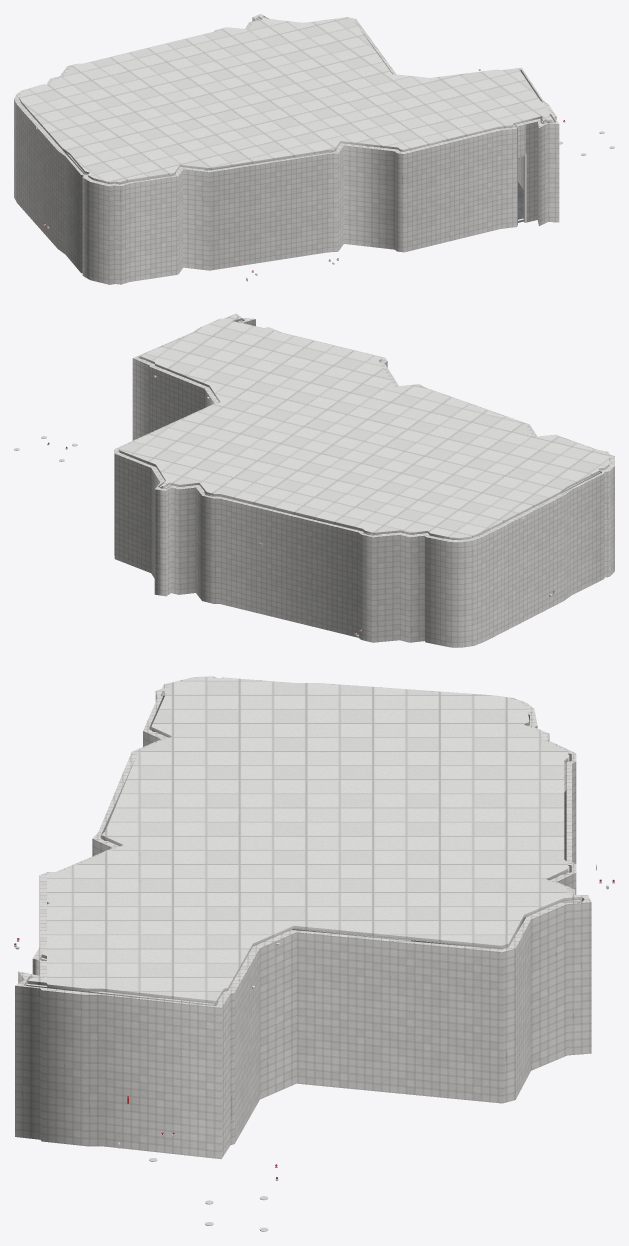
The model's file is cocina_alta_39c03917aacb.glb.
3 views of the same model, one above another, from view 1: azimuth 30°, elevation 25°; view 2: azimuth 150°, elevation 25°; view 3: azimuth 270°, elevation 25° (orthographic). The views are drawn at different scales.
Parts seen in each view (by area): view 1: WALLS, CEILING; view 2: CEILING, WALLS; view 3: CEILING, WALLS.
Part boxes in pixels (bbox=[...]): WALLS: bbox=[14, 14, 559, 284]; CEILING: bbox=[19, 15, 552, 184]; CEILING: bbox=[120, 315, 609, 539]; WALLS: bbox=[114, 313, 614, 647]; CEILING: bbox=[27, 676, 582, 1003]; WALLS: bbox=[15, 676, 591, 1159].
Size of the model in its own units: 17.2 by 3.42 by 10.81.
26 materials, 4 textured.
